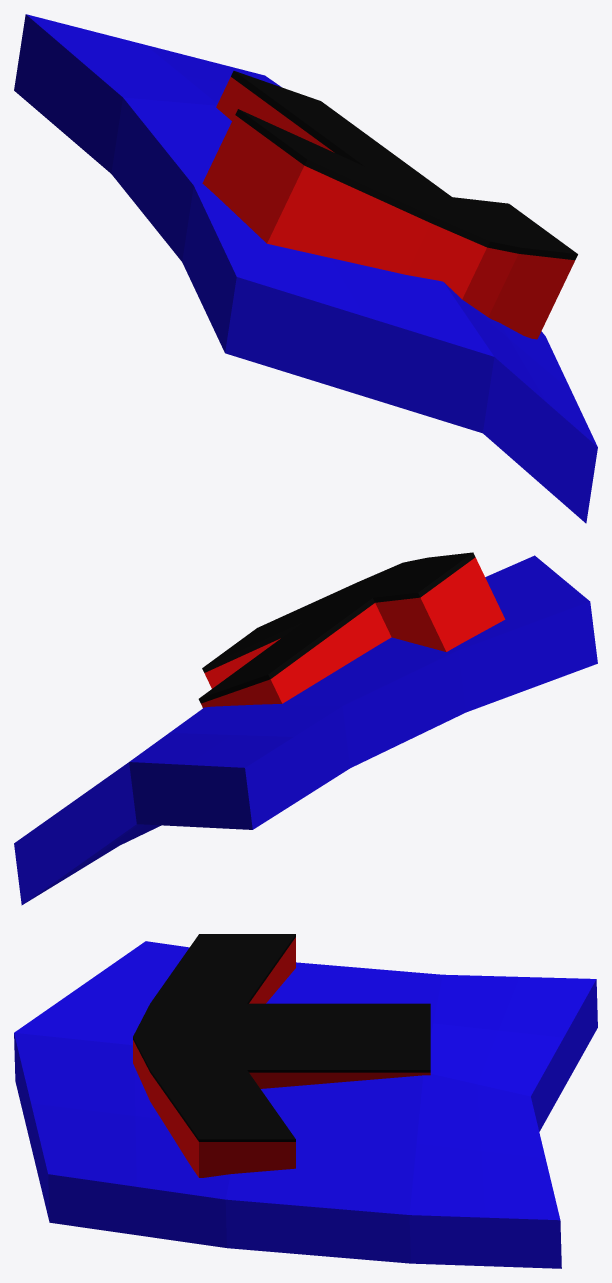
Rendered from Arrow 2.fbx.
The picture shows the model from 3 angles, top to bottom: view 1: azimuth 30°, elevation 25°; view 2: azimuth 150°, elevation 25°; view 3: azimuth 270°, elevation 25°; orthographic projection. The views are drawn at different scales.
Parts seen in each view (by area): view 1: Cube; view 2: Cube; view 3: Cube.
Boxes of the visible parts, x1,y1,x2,y2 form: Cube: (14,14,597,523); Cube: (14,552,597,905); Cube: (14,934,597,1268).
Size of the model in its own units: 133 by 95.05 by 219.
